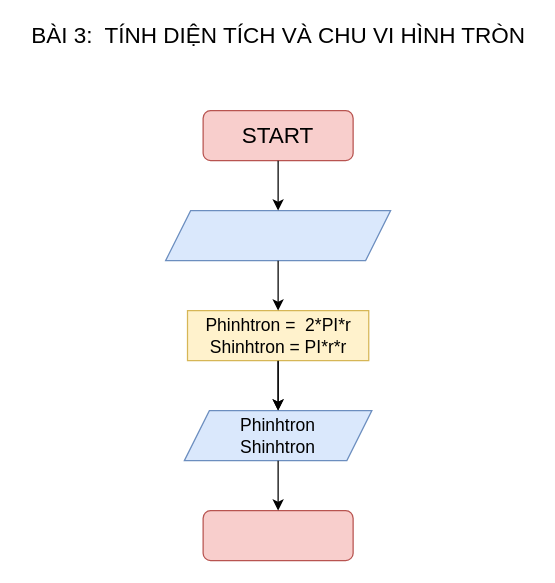
This 555x583 diagram has some shape labels left out. Each missing label, with the centre of its shape:
"NHẬP VÀO BÁN KÍNH HÌNH TRÒN r" belongs at point (277, 235).
"STOP" belongs at point (277, 535).
